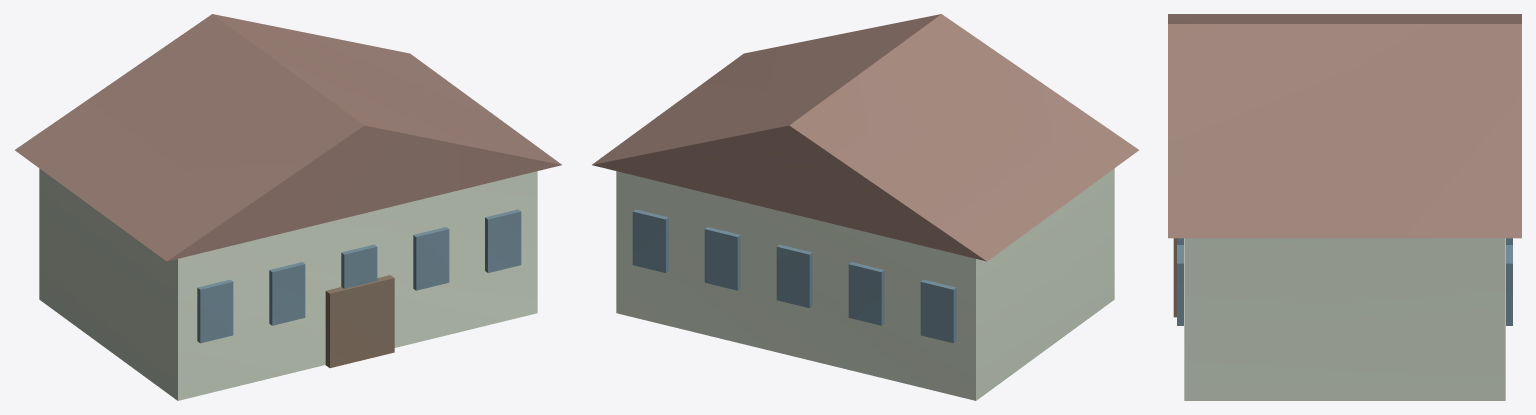
File: greenhouse-00.glb
3 renders of one model, left to right at view 1: azimuth 30°, elevation 25°; view 2: azimuth 150°, elevation 25°; view 3: azimuth 270°, elevation 25°, orthographic. The views are drawn at different scales.
Visible parts, largest first — view 1: world; view 2: world; view 3: world.
Boxes of the visible parts, x1,y1,x2,y2 form: world: (15, 14, 561, 400); world: (592, 14, 1138, 400); world: (1168, 14, 1521, 400).
Size of the model in its own units: 1.9 by 1.08 by 1.26.
